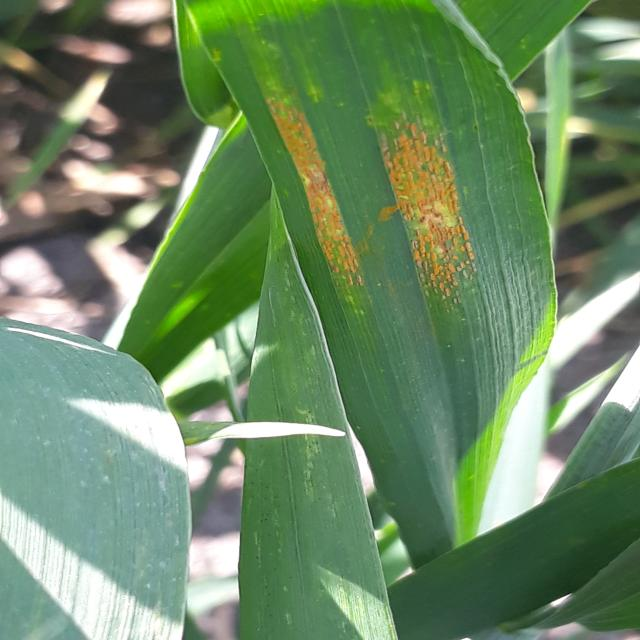yellow_rust: (159, 16, 640, 431)
